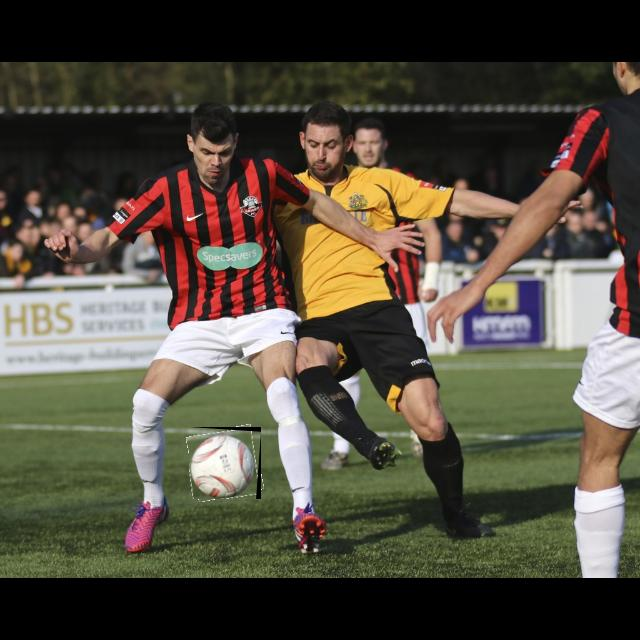Football: (189, 427, 261, 499)
